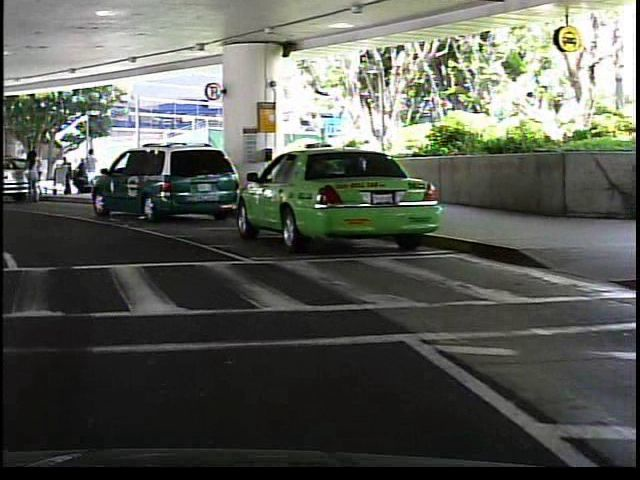person: (21, 152, 40, 203)
